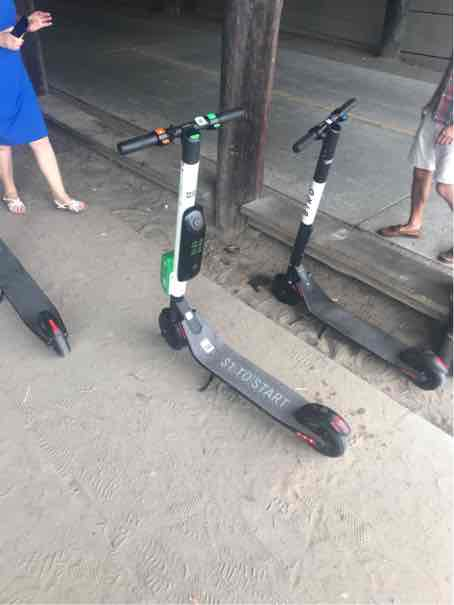scooter: (116, 98, 360, 458)
